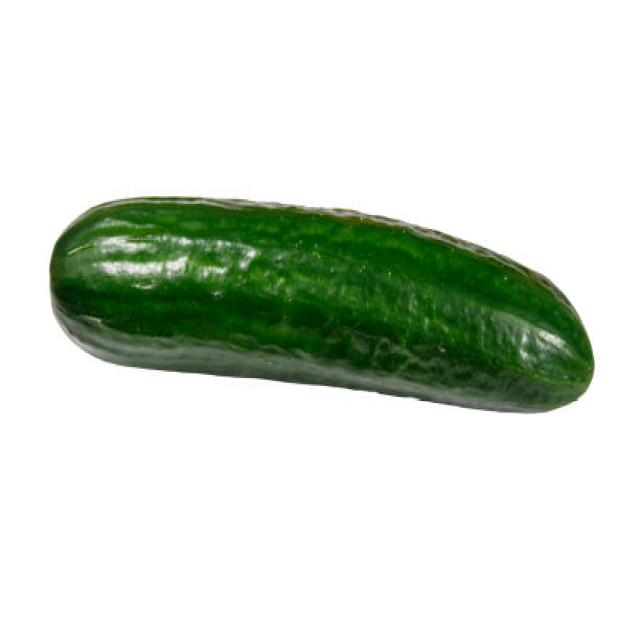cucumber: (50, 198, 596, 416)
